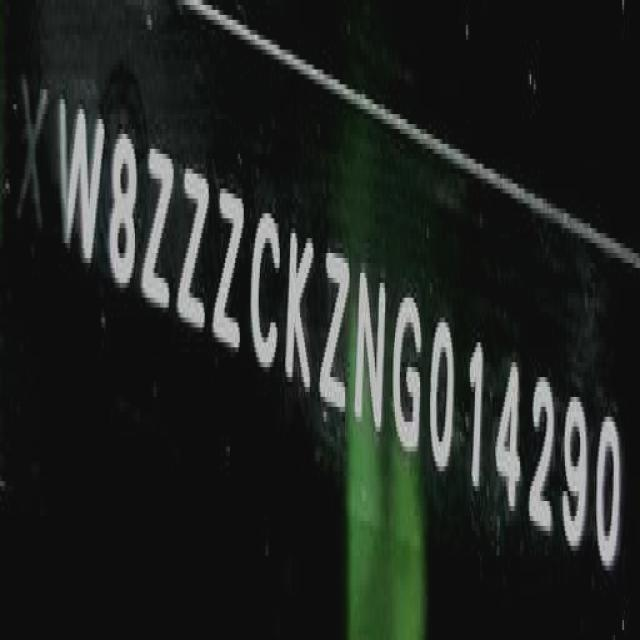0: (428, 297, 459, 484), (595, 392, 625, 575)
1: (466, 326, 487, 504)
2: (528, 357, 556, 547)
4: (496, 341, 526, 527)
8: (108, 116, 140, 300)
9: (562, 384, 589, 555)
C: (250, 198, 282, 382)
G: (394, 276, 426, 464)
K: (286, 217, 318, 406)
N: (353, 253, 390, 447)
W: (55, 74, 103, 280)
X: (17, 65, 49, 246)
Z: (143, 134, 174, 327), (180, 155, 211, 343), (320, 233, 350, 425), (214, 174, 244, 364)
